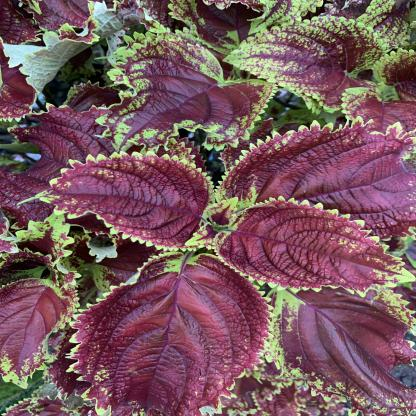Bunga Coleus: (24, 16, 412, 399)
